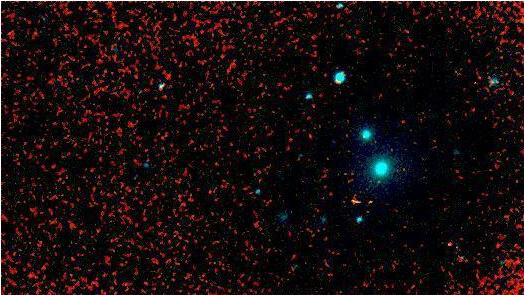star: (356, 187, 386, 217)
